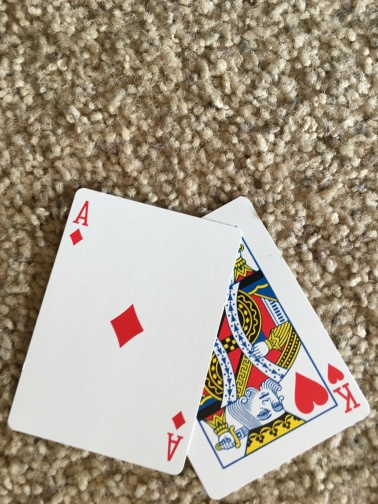ace: (10, 188, 235, 477)
king: (188, 197, 369, 497)
